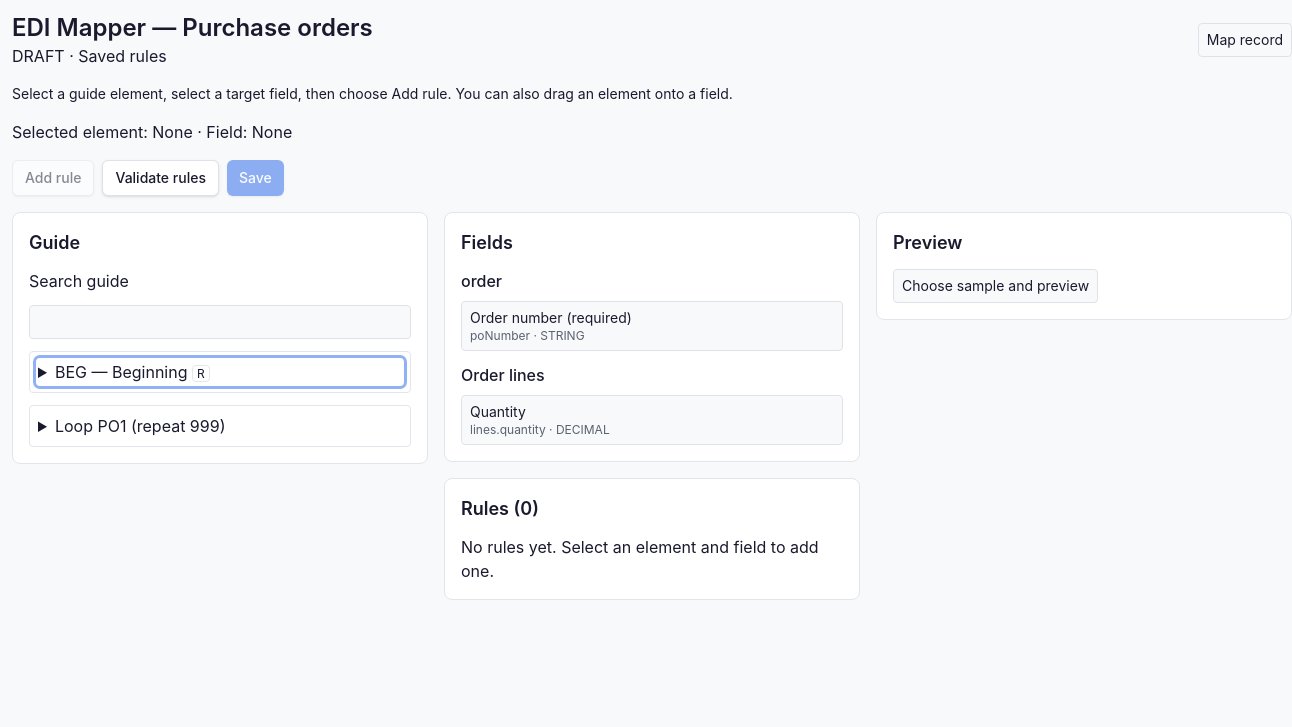
stops saving when the server cannot confirm an inserted rule identifier
Press Enter
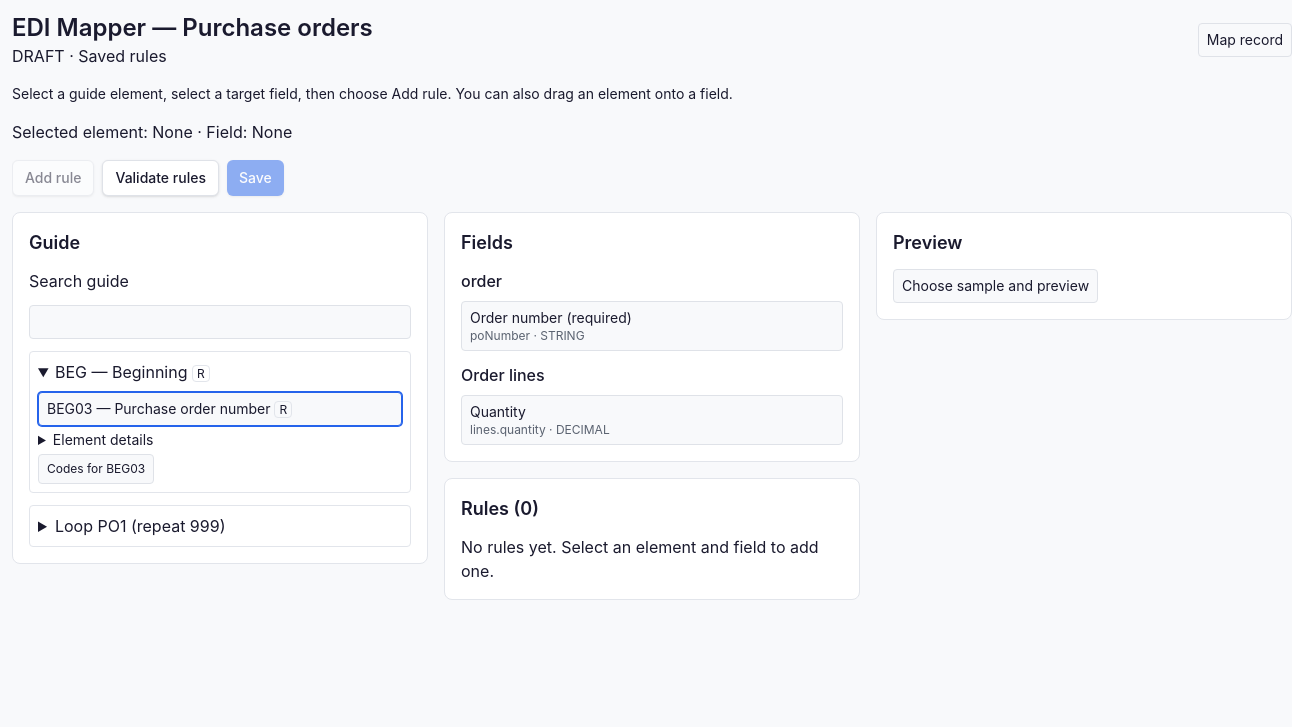
Press Enter
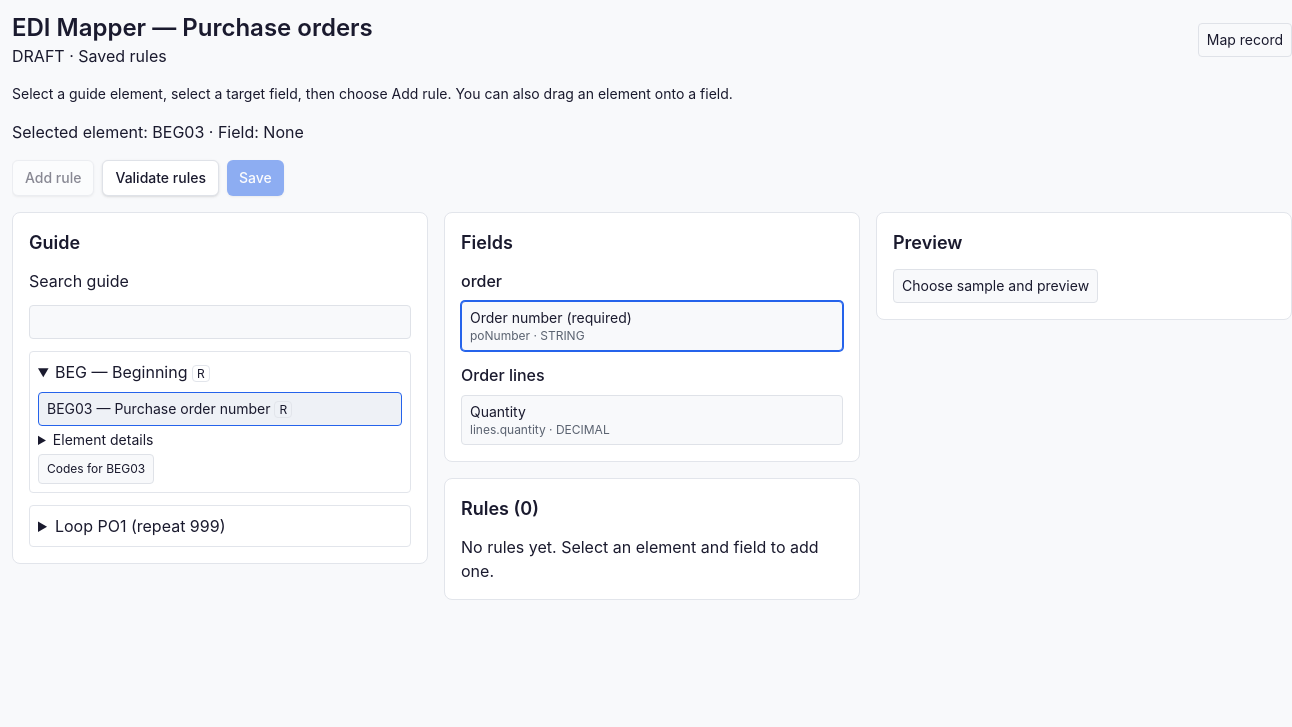
Press Enter
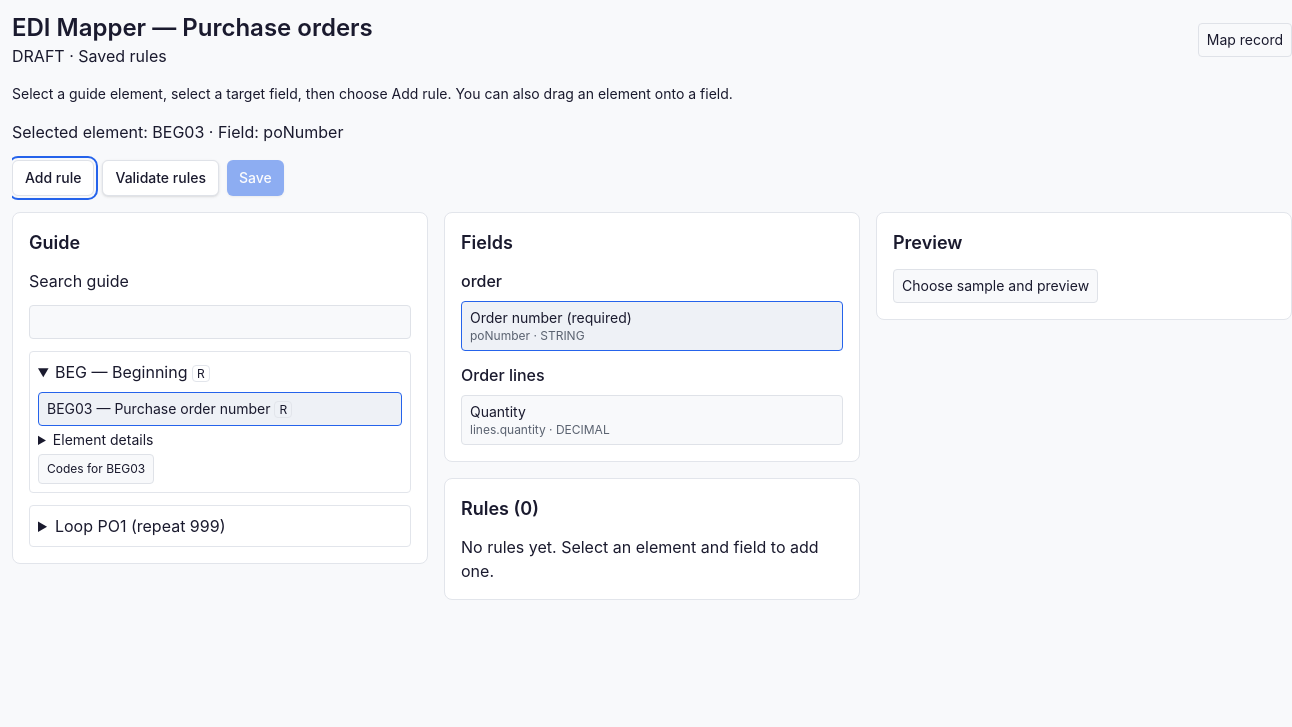
Press Enter
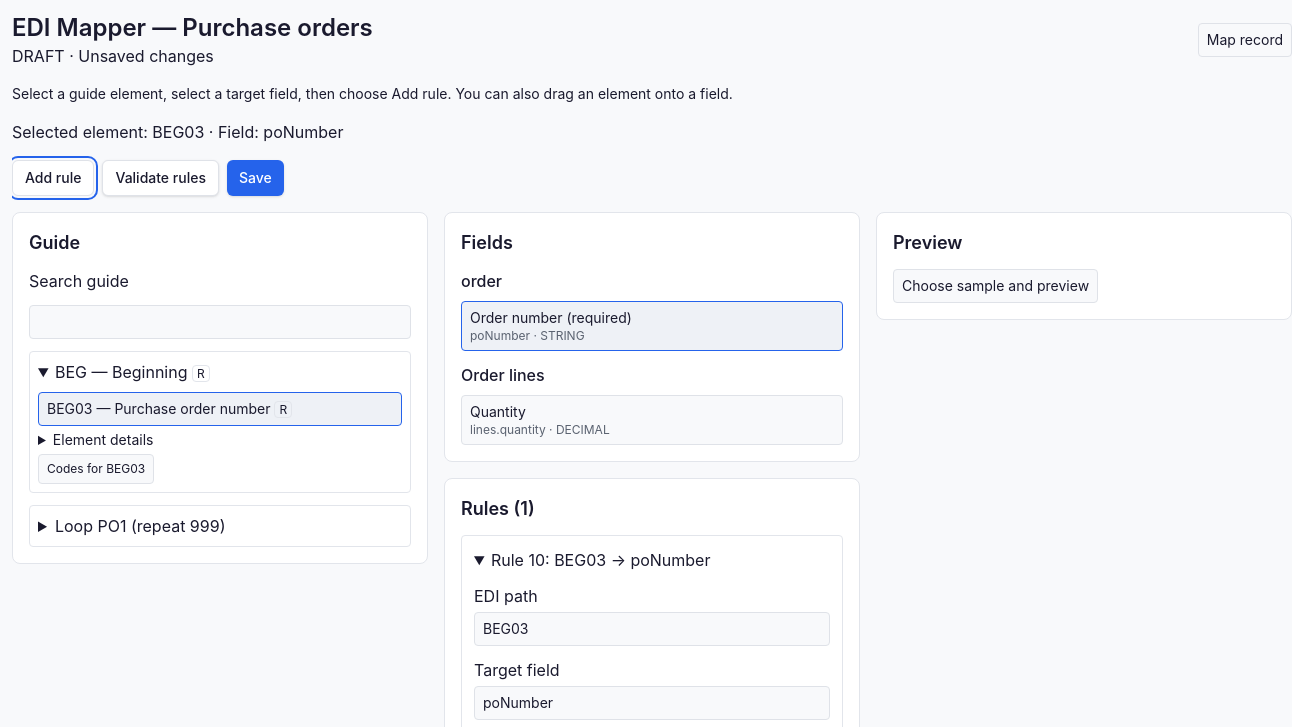
Click the button "Save". click: (255,178)
box: [227,160,284,196]
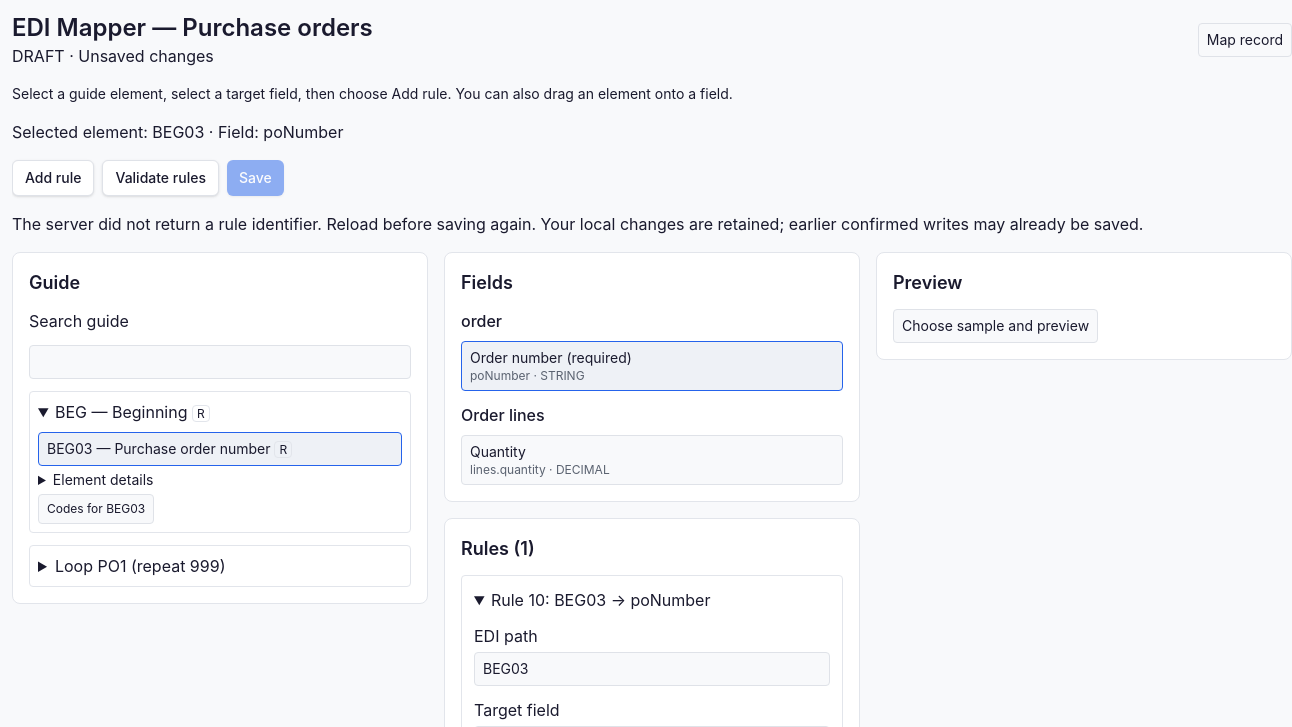
expect the 2nd message shows "Reload before saving again": met, box [12,214,536,234]
expect the button "Save" is disabled: met, box [227,160,284,196]
